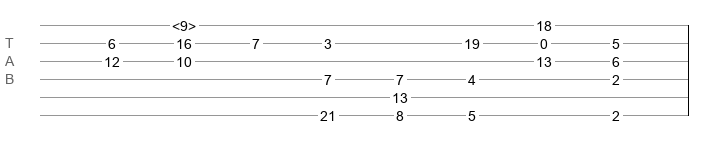0: (540, 36, 548, 46)
10: (176, 54, 192, 64)
12: (104, 54, 120, 64)
13: (392, 90, 408, 100), (536, 54, 552, 64)
16: (176, 36, 192, 46)
18: (536, 18, 552, 28)
19: (464, 36, 480, 46)
2: (612, 108, 620, 118), (612, 72, 620, 82)
21: (320, 108, 336, 118)
3: (324, 36, 332, 46)
4: (468, 72, 476, 82)
5: (468, 108, 476, 118), (612, 36, 620, 46)
6: (108, 36, 116, 46), (612, 54, 620, 64)
7: (252, 36, 260, 46), (324, 72, 332, 82), (396, 72, 404, 82)
8: (396, 108, 404, 118)
harmonic: (172, 18, 196, 28)
